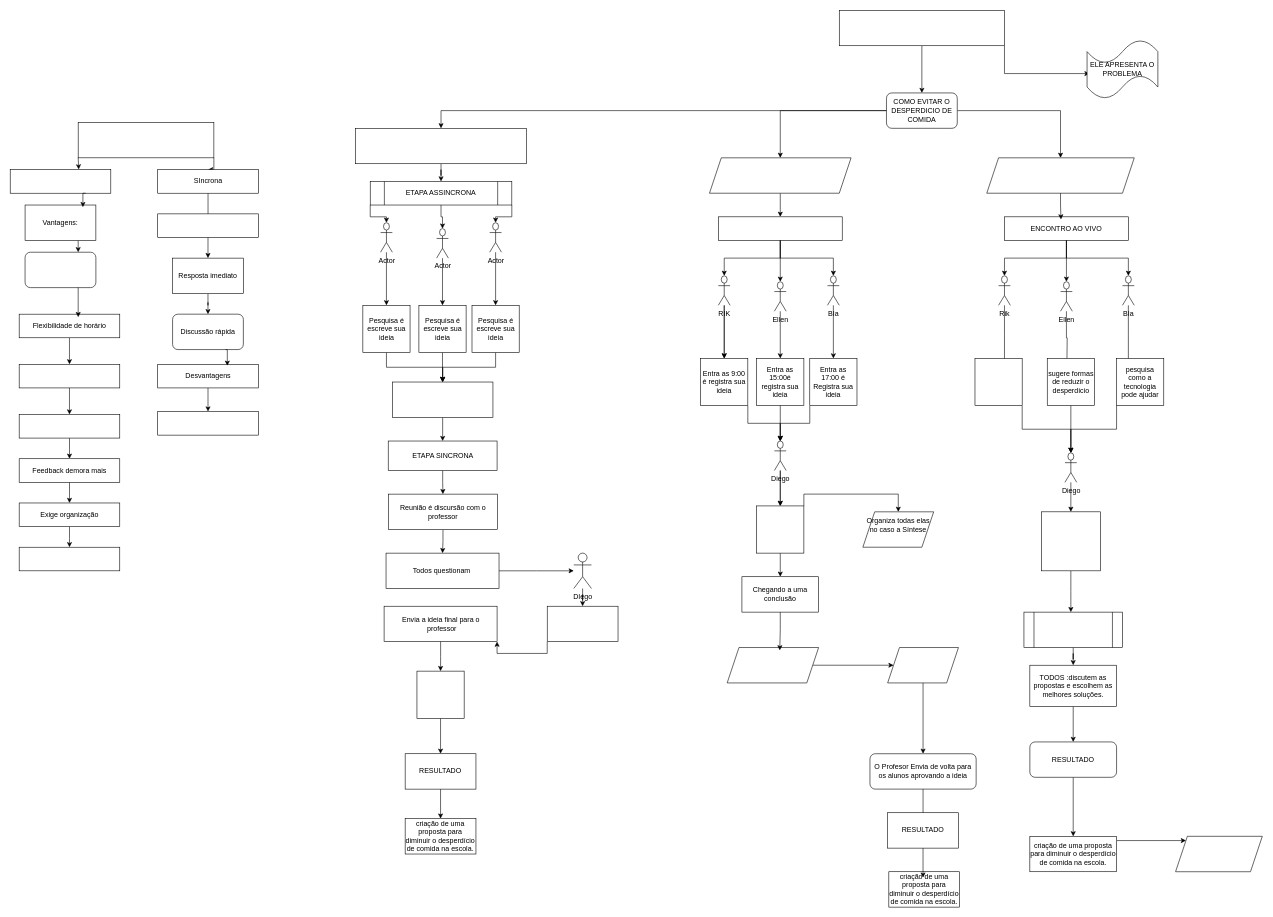
The diagram is 1273 pixels wide and 917 high, and some of its shapes have lost their labels. The centre of each missing label's shape, as x and y in pixels:
assincrona: point (60, 181)
ASSÍNCRONA: point (780, 175)
Avalia é aprova: point (440, 694)
Avaliação imediata da ideia: point (1218, 854)
Cada aluno pode pensar antes de responder: point (60, 270)
Criação de um arquivo onde todos podem acessar: point (780, 228)
Envia as ideias para o Professor: point (773, 665)
HIBRIDA: point (441, 146)
IDEIAS REGISTRADAS: point (442, 399)
Mensagens podem ficar confusas: point (69, 559)
Organizar todas as ideias é todas as discursões: point (582, 624)
Pega todas as ideias que ja foram propostas no arquivo: point (780, 529)
Permite revisar a resposta: point (69, 376)
pesquisa as principais causas do desperdício: point (998, 382)
Problemas: point (69, 426)
PROFESSOR PASSAR O CONTEUDO: point (921, 28)
PROFESSOR TIRA AS DUVIDAS: point (1072, 630)
Quadro comparativo: point (146, 140)
reúne as ideias e monta a solução final: point (1070, 541)
SÍNCRONA: point (1060, 175)
Todos precisam estar disponíveis no mesmo horário: point (207, 423)
Vai da um ok: point (922, 665)
vantagens: point (207, 225)
